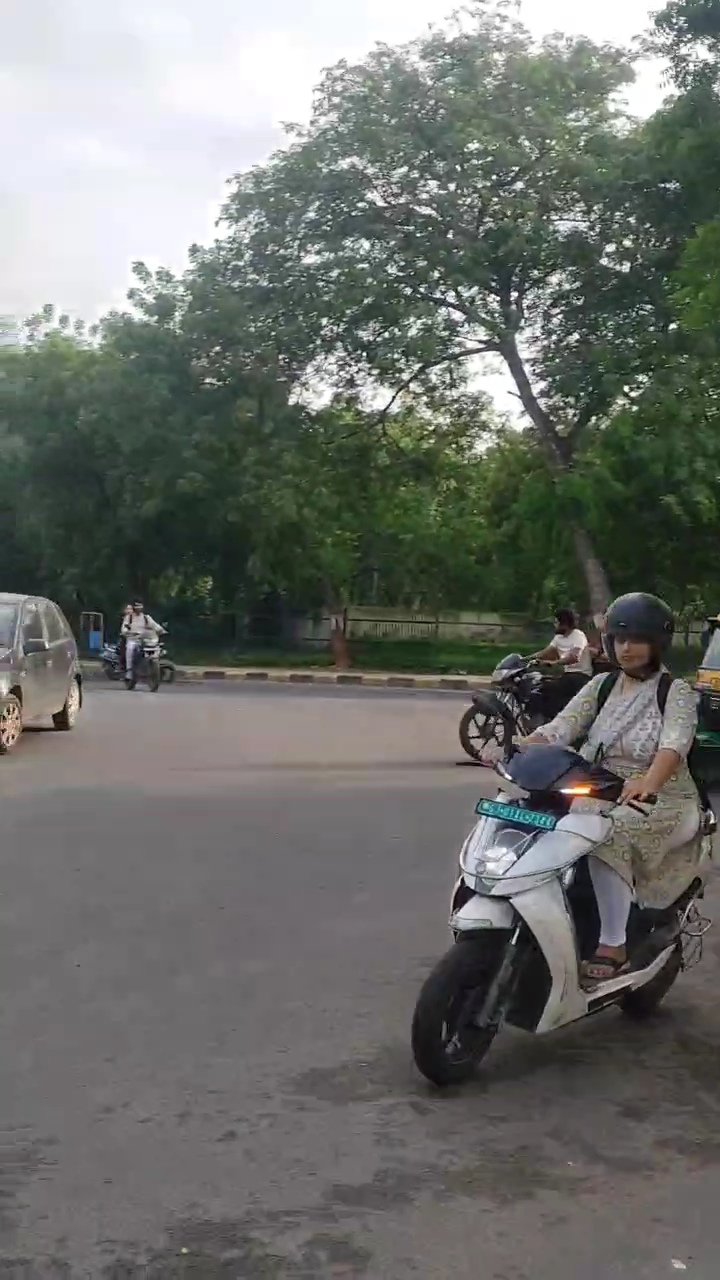BikeWithRider: (404, 584, 720, 1092), (453, 604, 618, 766), (114, 594, 169, 694)
Helmet: (601, 594, 679, 680)
NoHelmet: (551, 609, 576, 634)
